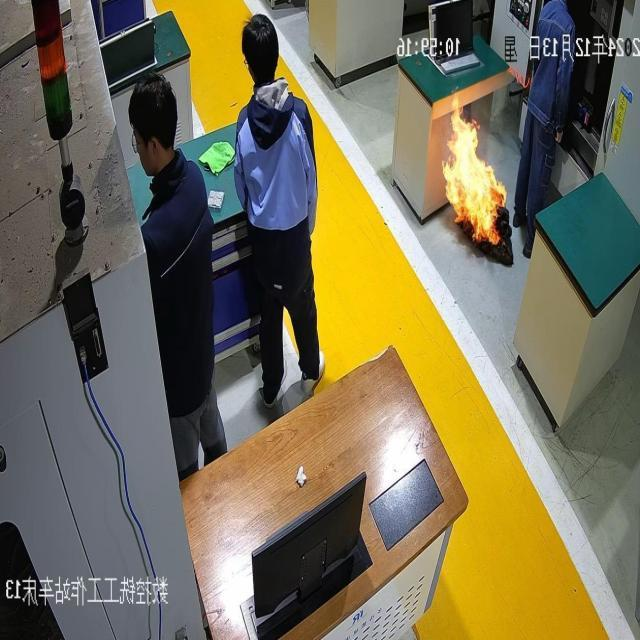smoke: (444, 96, 506, 250)
